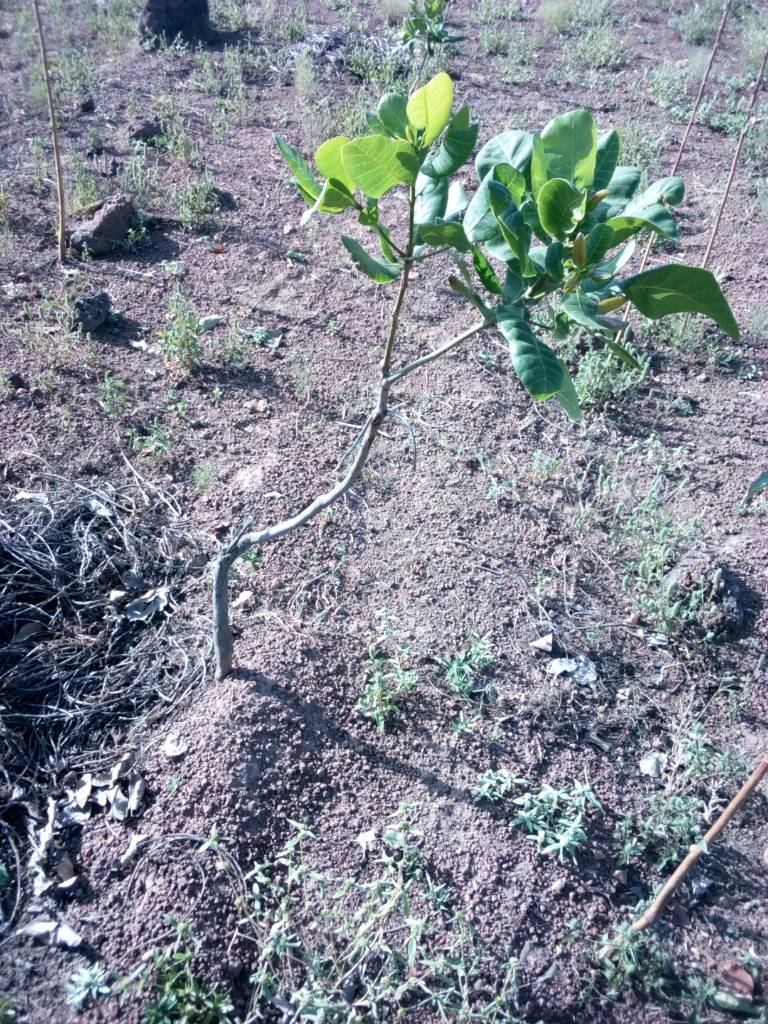Helopeltis anacardii: (461, 180, 535, 271), (504, 296, 566, 396)
